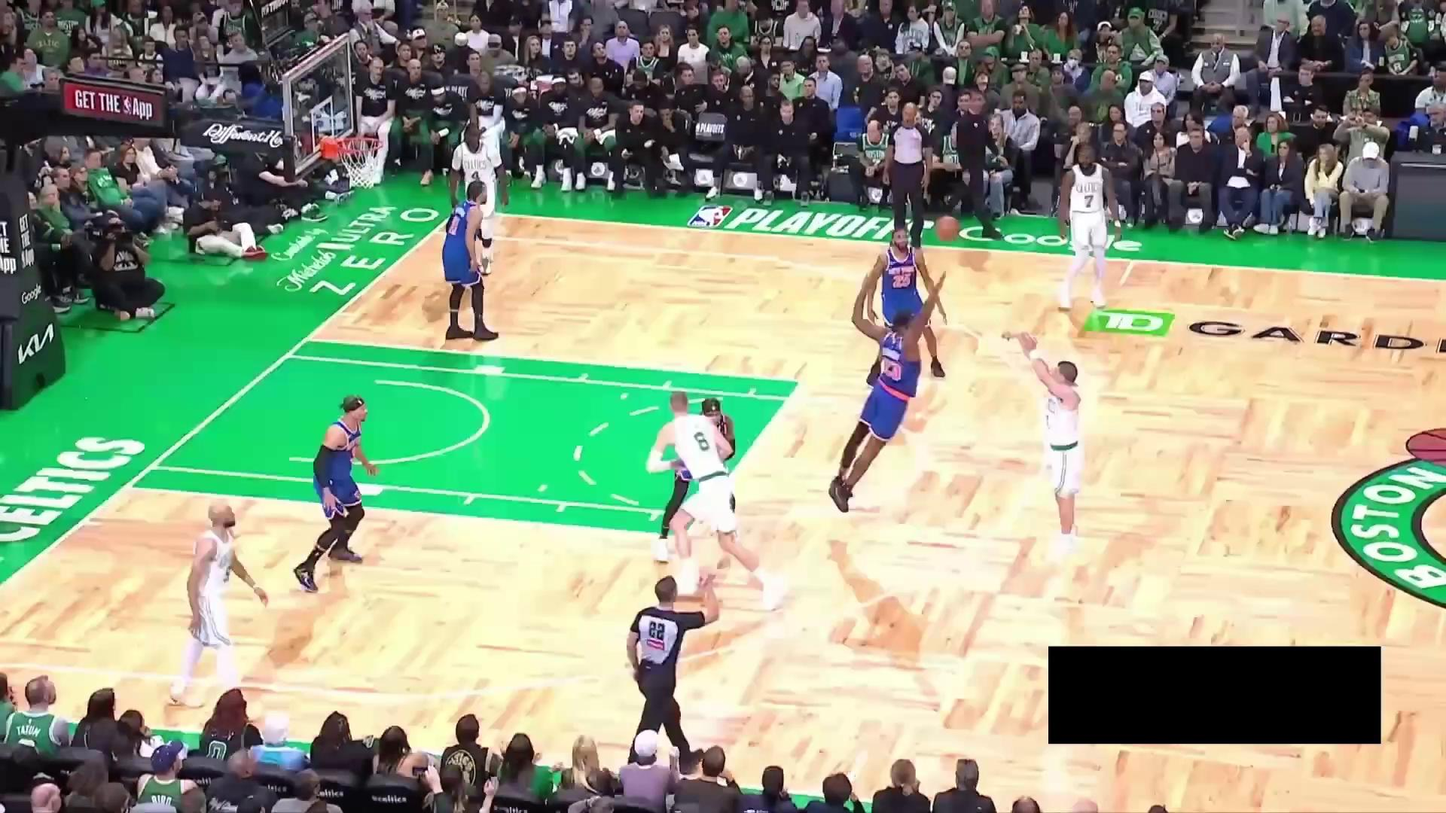ball: (934, 215, 959, 242)
number: (880, 353, 902, 383), (693, 430, 711, 454), (892, 270, 912, 289), (448, 212, 461, 236), (1082, 192, 1095, 210), (469, 168, 481, 183)
player: (647, 388, 790, 610), (170, 498, 267, 712), (295, 385, 380, 591), (652, 397, 737, 566), (861, 222, 951, 381), (1053, 143, 1124, 309), (431, 178, 502, 338), (446, 123, 503, 278)
player-jump-shot: (1014, 324, 1098, 561)
player-shot-block: (825, 266, 954, 517)
referee: (627, 572, 724, 778), (878, 95, 939, 240)
rim: (331, 134, 387, 156)
